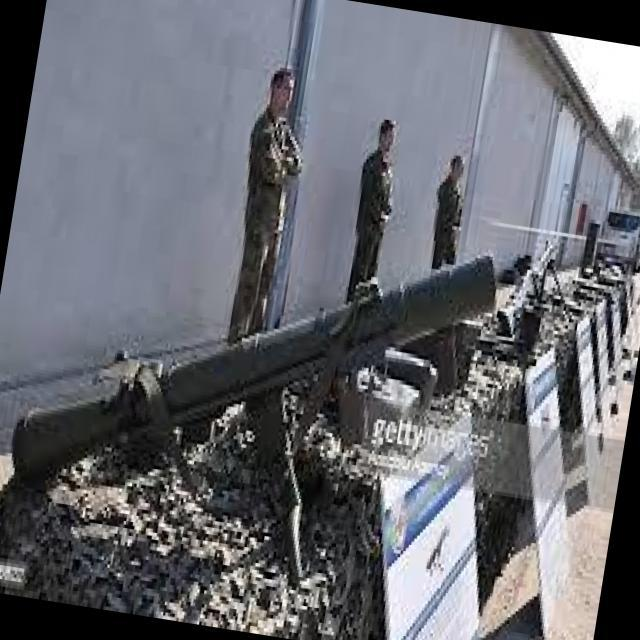rocket: (6, 186, 503, 554)
